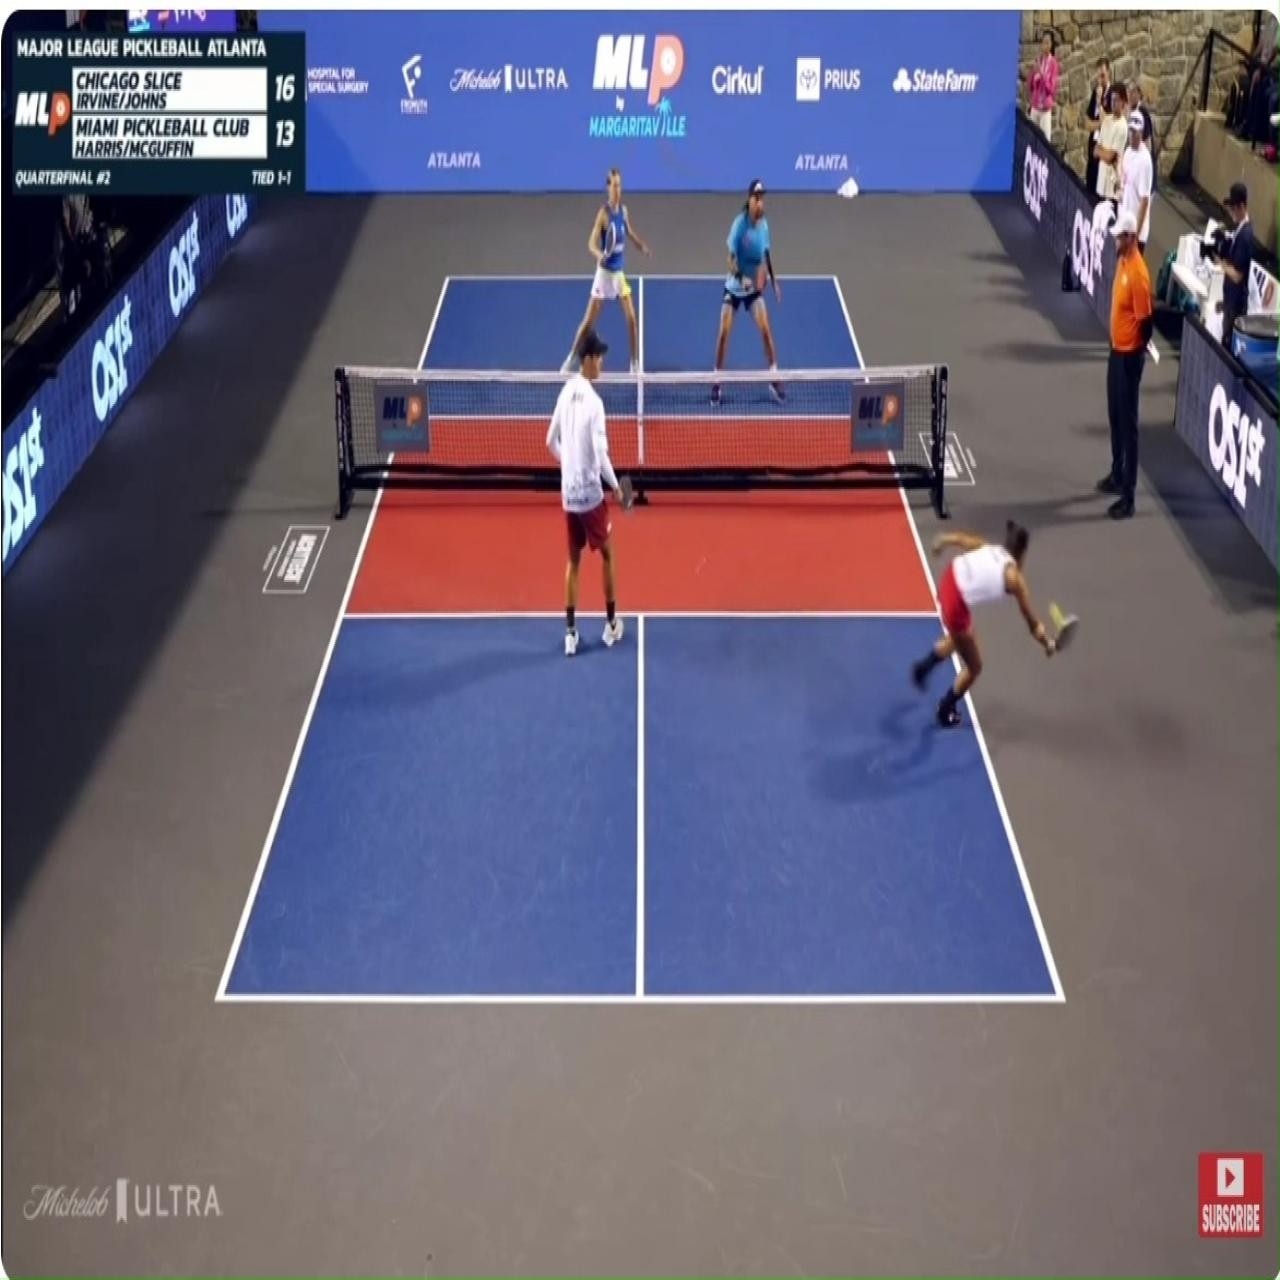pickleball: (1048, 601, 1062, 629)
